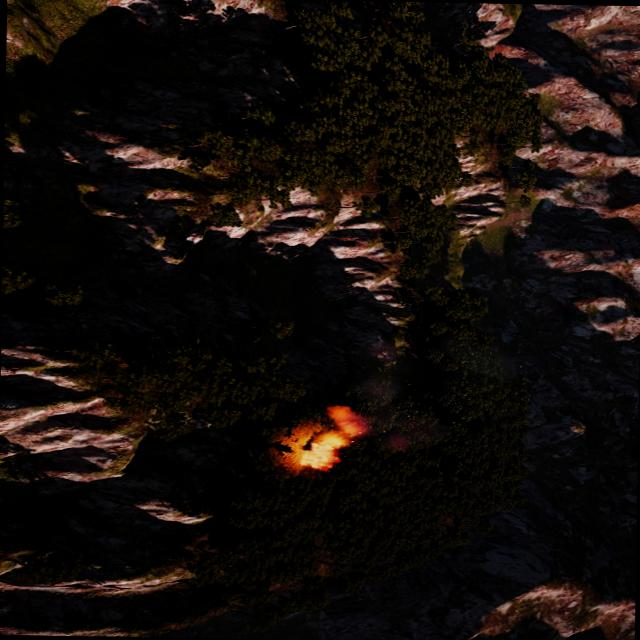fire: (286, 404, 371, 470), (566, 423, 584, 435)
smoke: (355, 327, 533, 458)
